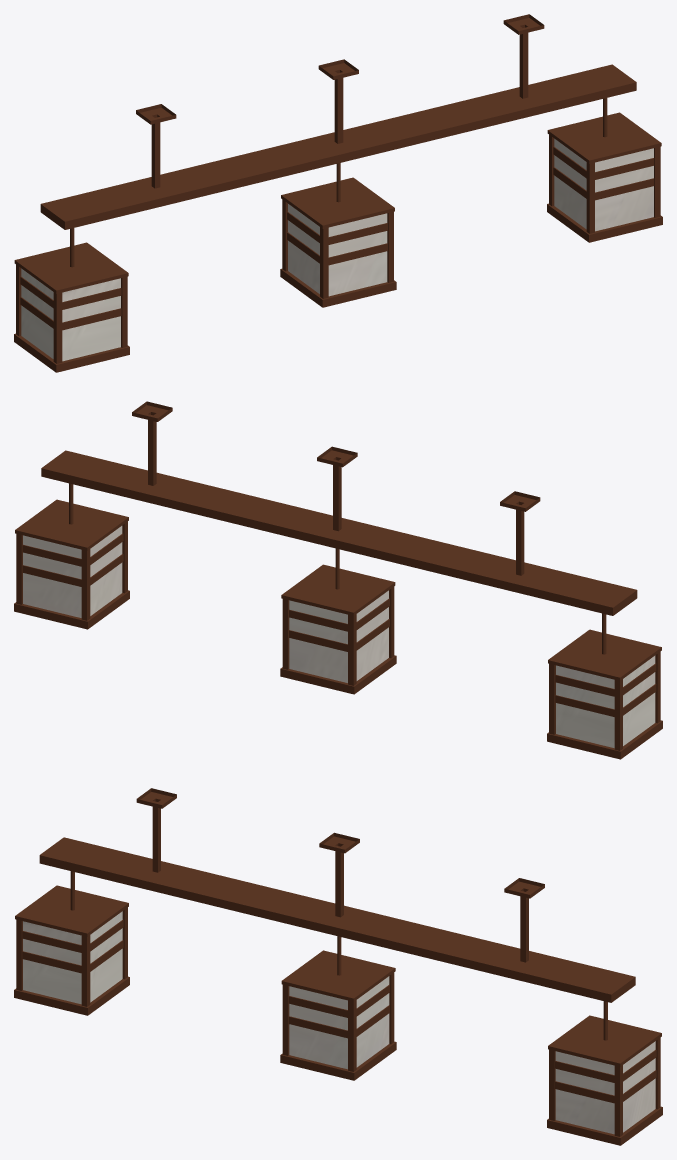
File: Dojo_luminaria.fbx
3 renders of one model, top to bottom at view 1: azimuth 30°, elevation 25°; view 2: azimuth 150°, elevation 25°; view 3: azimuth 330°, elevation 25°, orthographic.
Visible parts, largest first — view 1: Luminaria; view 2: Luminaria; view 3: Luminaria.
Part boxes in pixels (x1=…): Luminaria: x1=14, y1=14, x2=662, y2=372; Luminaria: x1=14, y1=401, x2=662, y2=759; Luminaria: x1=14, y1=788, x2=662, y2=1145.
Size of the model in its own units: 236 by 80.05 by 28.54.
